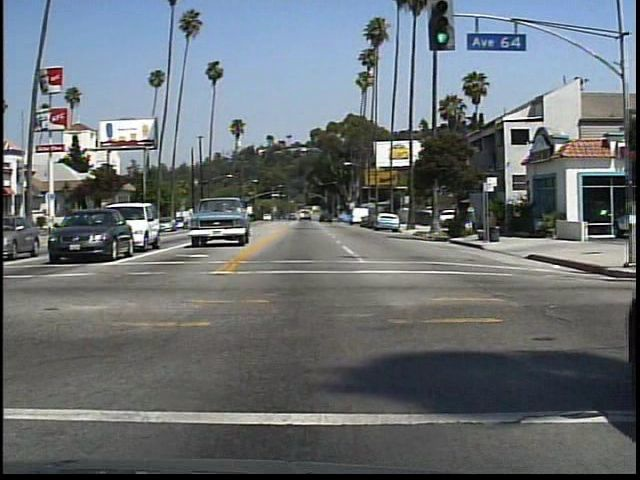person: (465, 202, 476, 240)
